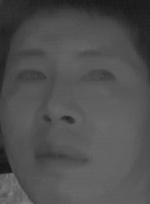eye: (80, 63, 119, 90), (15, 65, 51, 87)
mouth: (32, 139, 88, 174)
